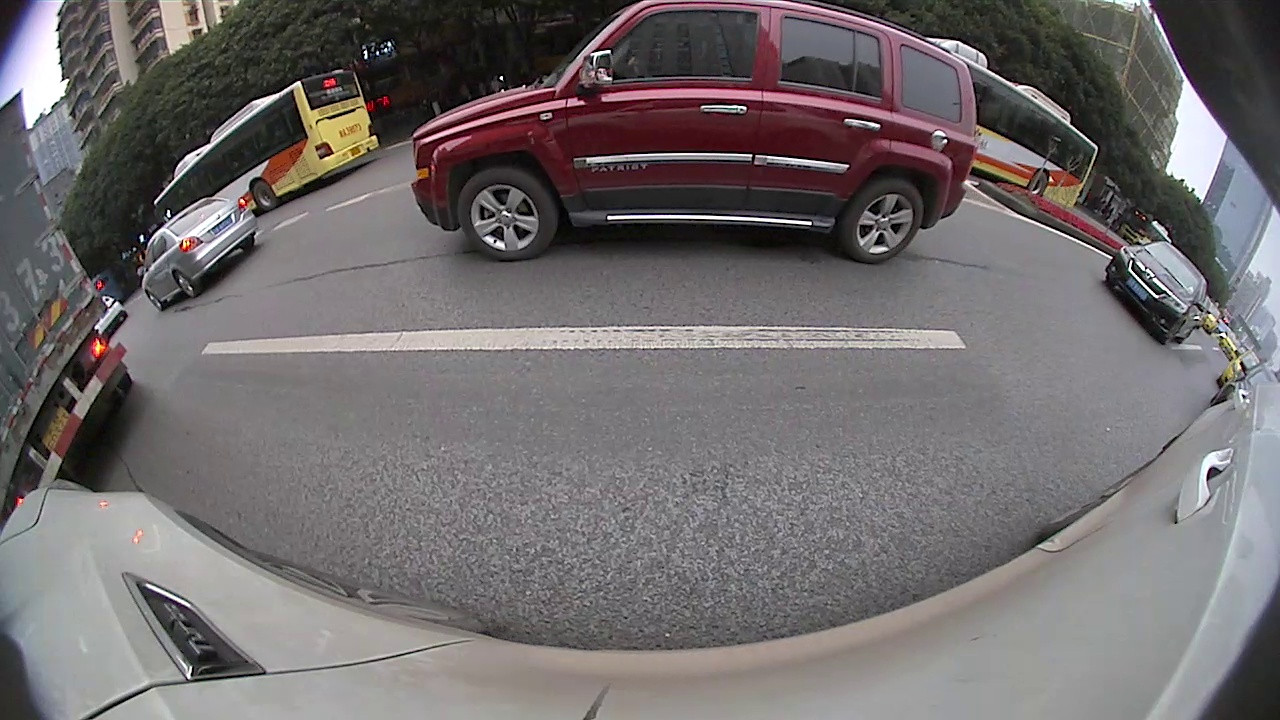bus: (152, 67, 380, 221), (928, 36, 1101, 213)
car: (411, 1, 977, 266), (141, 193, 261, 311), (1108, 242, 1209, 347)
front: (450, 170, 558, 254), (145, 290, 165, 311)
rear: (845, 174, 916, 256), (249, 183, 277, 210), (172, 271, 200, 298), (1029, 166, 1047, 197)
truck: (1, 89, 129, 502)
